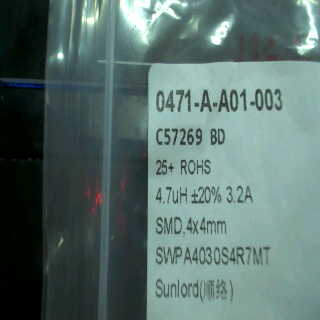4.7uH: (150, 181, 190, 212)
